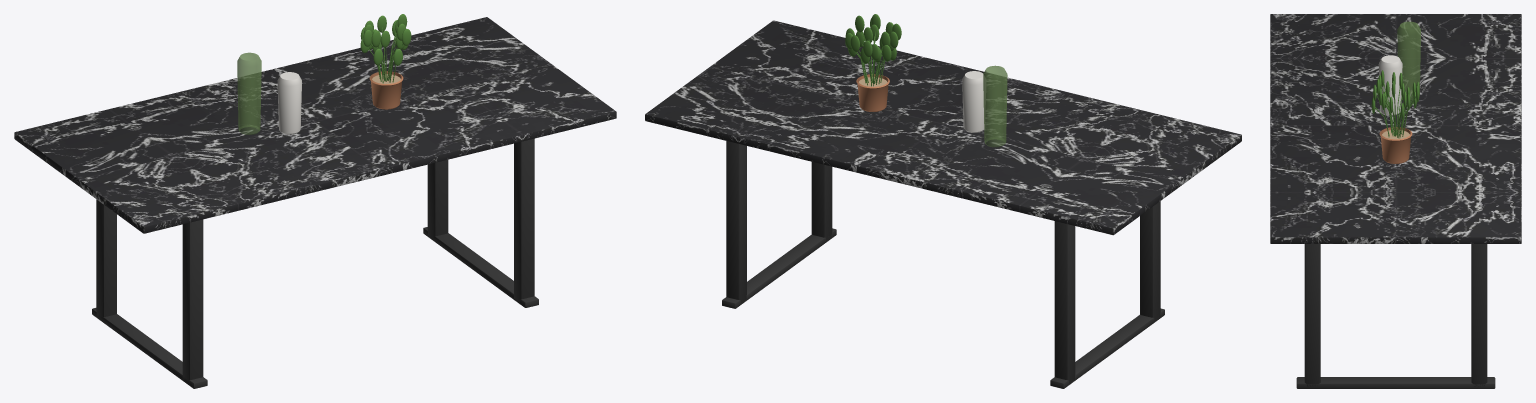
File: mesa-marmol-negro-v2.gltf
3 views of the same model, side by side, from view 1: azimuth 30°, elevation 25°; view 2: azimuth 150°, elevation 25°; view 3: azimuth 270°, elevation 25° (orthographic). The views are drawn at different scales.
Visible parts, largest first — view 1: mesa-marmol-negro__s_marmol_negro, mesa-marmol-negro__m_negro, mesa-marmol-negro__k_hoja, mesa-marmol-negro__k_vidrio_verde, mesa-marmol-negro__c_mate, mesa-marmol-negro__k_terracota; view 2: mesa-marmol-negro__s_marmol_negro, mesa-marmol-negro__m_negro, mesa-marmol-negro__k_hoja, mesa-marmol-negro__k_vidrio_verde, mesa-marmol-negro__c_mate, mesa-marmol-negro__k_terracota; view 3: mesa-marmol-negro__s_marmol_negro, mesa-marmol-negro__m_negro, mesa-marmol-negro__k_hoja, mesa-marmol-negro__k_vidrio_verde, mesa-marmol-negro__c_mate, mesa-marmol-negro__k_terracota.
Part boxes in pixels (bbox=[...]): mesa-marmol-negro__s_marmol_negro: bbox=[14, 17, 616, 233]; mesa-marmol-negro__m_negro: bbox=[92, 138, 538, 388]; mesa-marmol-negro__k_hoja: bbox=[360, 14, 411, 83]; mesa-marmol-negro__k_vidrio_verde: bbox=[237, 52, 261, 134]; mesa-marmol-negro__c_mate: bbox=[277, 72, 301, 134]; mesa-marmol-negro__k_terracota: bbox=[369, 71, 403, 109]; mesa-marmol-negro__s_marmol_negro: bbox=[645, 20, 1241, 235]; mesa-marmol-negro__m_negro: bbox=[722, 141, 1164, 388]; mesa-marmol-negro__k_hoja: bbox=[845, 14, 901, 86]; mesa-marmol-negro__k_vidrio_verde: bbox=[983, 65, 1007, 147]; mesa-marmol-negro__c_mate: bbox=[962, 71, 985, 132]; mesa-marmol-negro__k_terracota: bbox=[856, 74, 889, 111]; mesa-marmol-negro__s_marmol_negro: bbox=[1270, 14, 1521, 243]; mesa-marmol-negro__m_negro: bbox=[1296, 244, 1495, 388]; mesa-marmol-negro__k_hoja: bbox=[1371, 70, 1419, 138]; mesa-marmol-negro__k_vidrio_verde: bbox=[1397, 21, 1420, 100]; mesa-marmol-negro__c_mate: bbox=[1378, 55, 1402, 115]; mesa-marmol-negro__k_terracota: bbox=[1379, 127, 1412, 163].
Size of the model in its own units: 2 by 1.11 by 0.95.
Materials: 7 (1 with a texture image).
